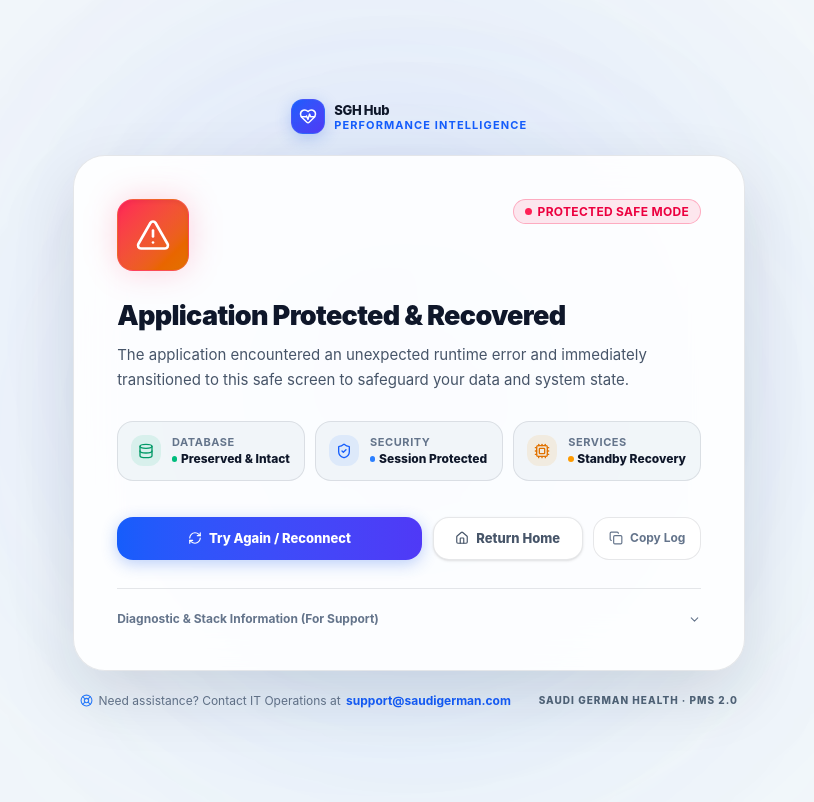
Test case: MaintenanceView › copies diagnostic payload to clipboard when Copy Log is clicked
Click the button "Copy Log".
click(647, 538)  # box [594, 516, 701, 560]
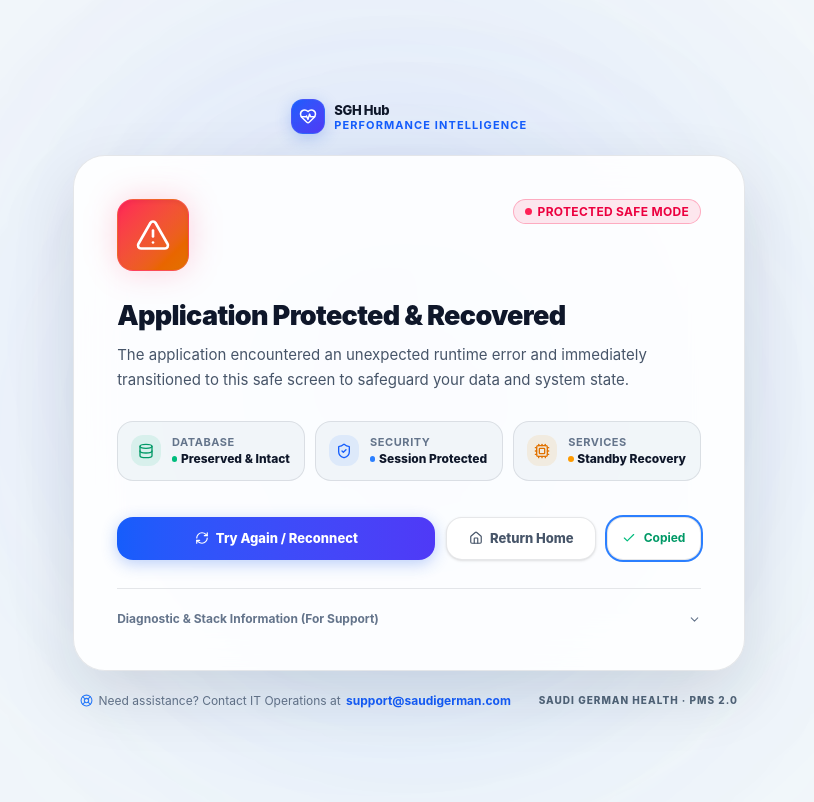
expect the text "Copied" is shown: met, box [644, 530, 686, 546]
